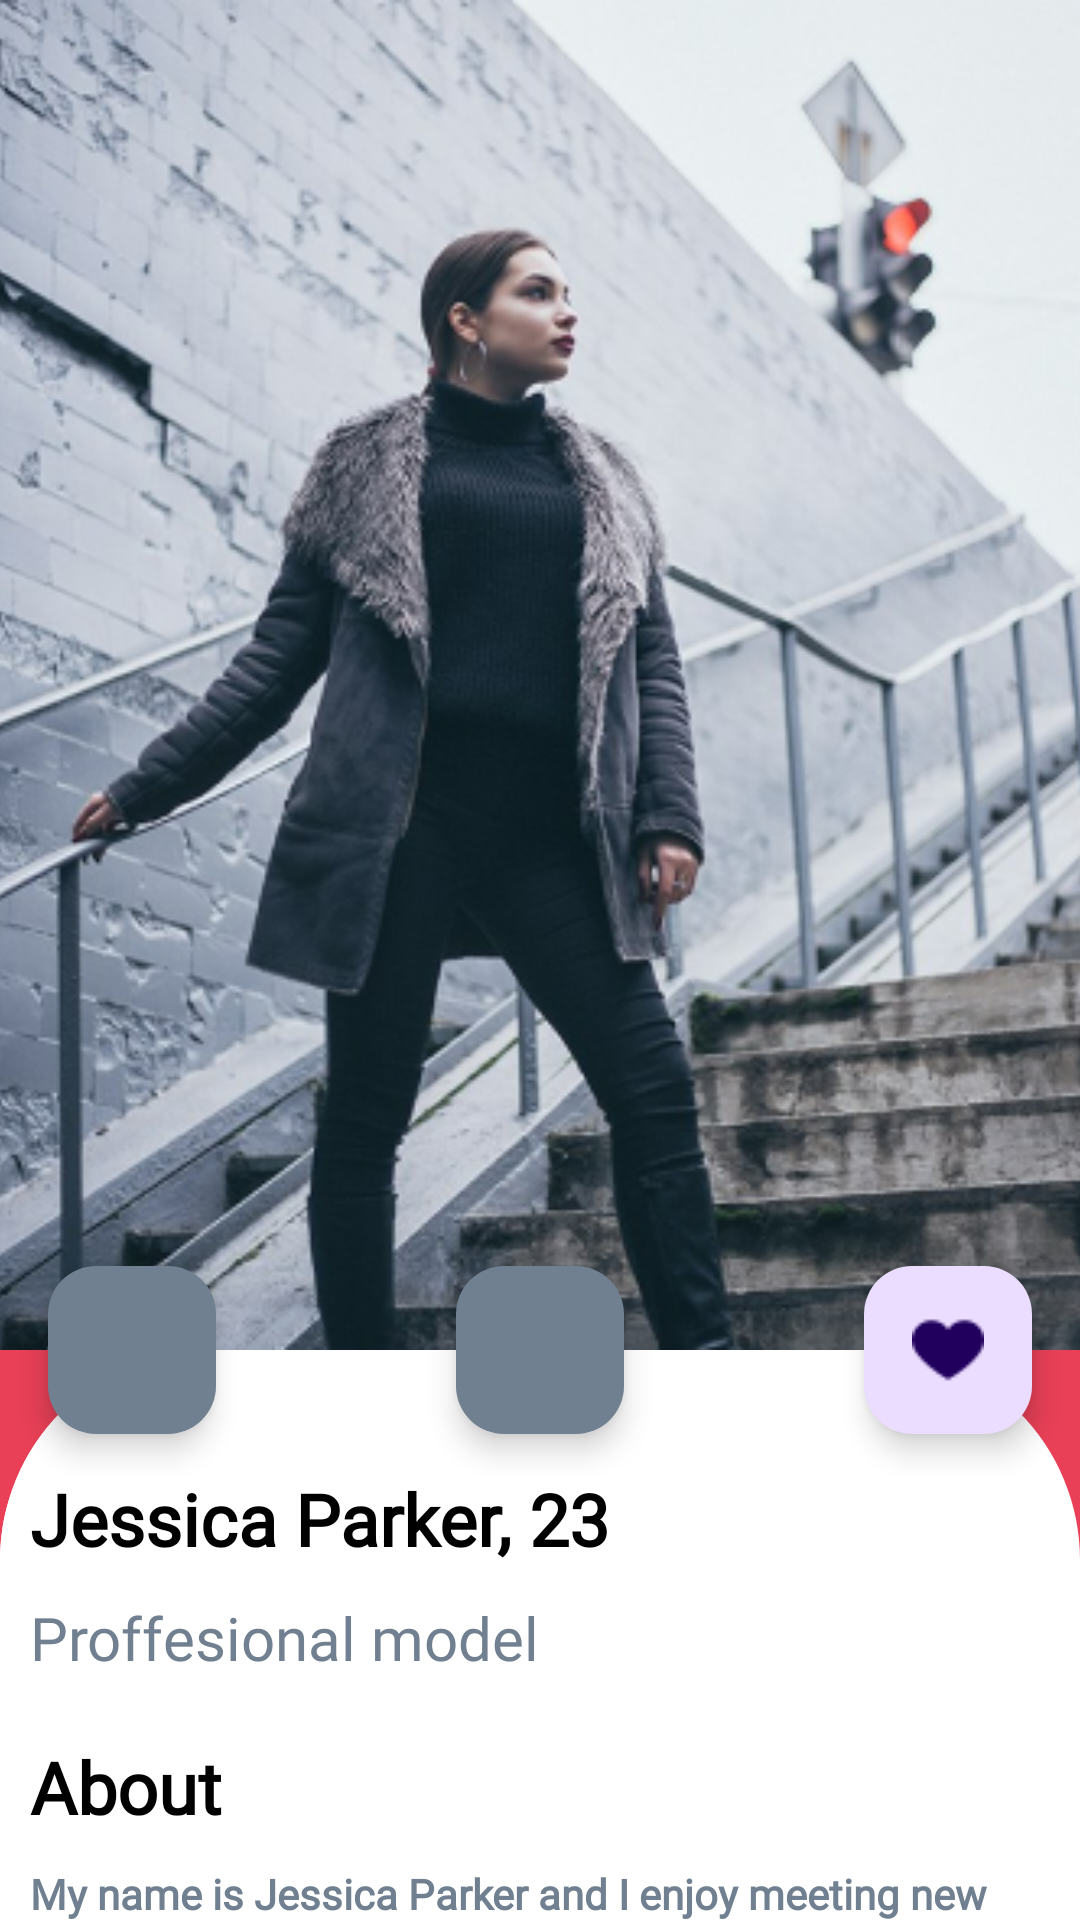

Icons on this 1080 x 1920 Android screen, each with the point to tap as (x,y):
heartred: (948,1350)
